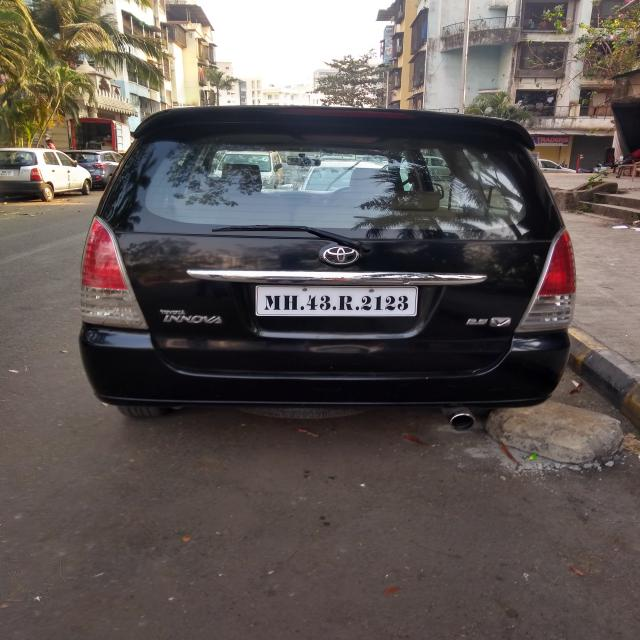Number-Plate: (261, 285, 416, 315)
